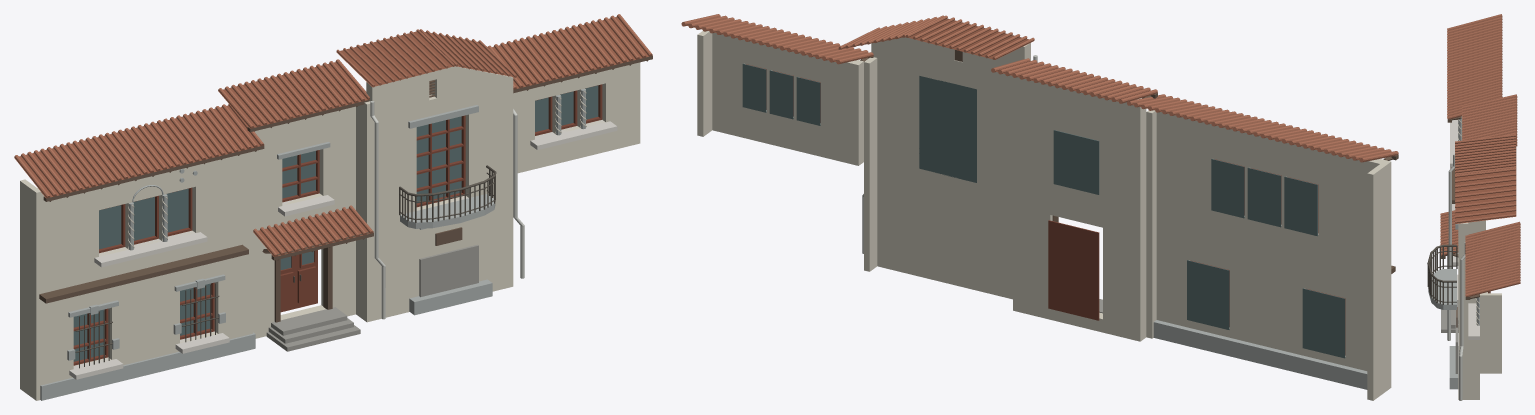
The model's file is changning-zhou-gucheng-courtyard-web.glb.
The picture shows the model from 3 angles, left to right: view 1: azimuth 30°, elevation 25°; view 2: azimuth 150°, elevation 25°; view 3: azimuth 270°, elevation 25°; orthographic projection. The views are drawn at different scales.
Parts seen in each view (by area): view 1: 泰安路115弄6号周谷城旧居（庭院入口立面）; view 2: 泰安路115弄6号周谷城旧居（庭院入口立面）; view 3: 泰安路115弄6号周谷城旧居（庭院入口立面）.
Part boxes in pixels (left/top/right/bottom): 泰安路115弄6号周谷城旧居（庭院入口立面）: left=14, top=14, right=652, bottom=400; 泰安路115弄6号周谷城旧居（庭院入口立面）: left=681, top=14, right=1398, bottom=400; 泰安路115弄6号周谷城旧居（庭院入口立面）: left=1427, top=14, right=1520, bottom=400.
Bounding box in the file's own units: 20.6 × 7.87 × 3.19.
